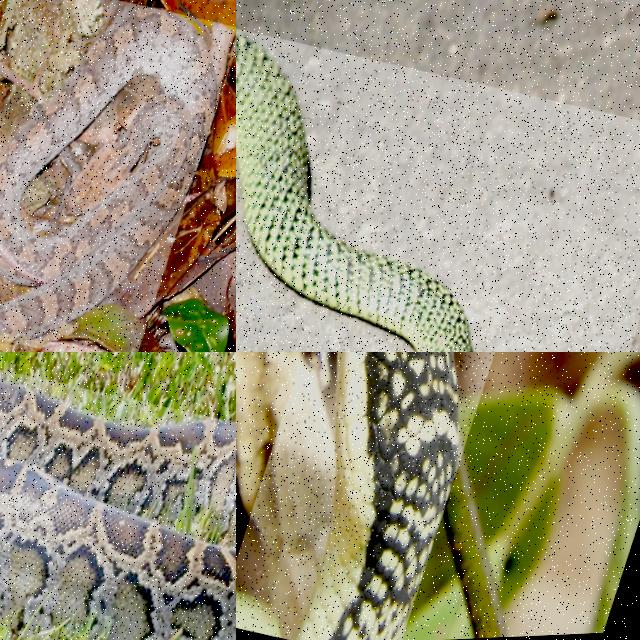Chrysopelea ornata: (236, 32, 472, 351), (298, 352, 458, 639)
Ovophis monticola: (0, 8, 216, 337)
Python bivittatus: (0, 382, 235, 639)
snake: (236, 32, 472, 351), (0, 8, 216, 337), (0, 382, 235, 639), (298, 352, 458, 639)
